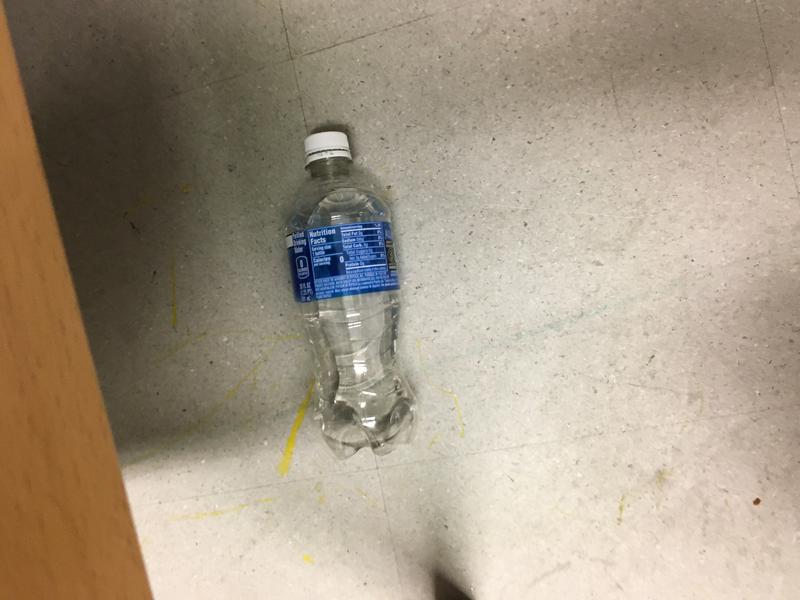bottle: (283, 127, 422, 459)
